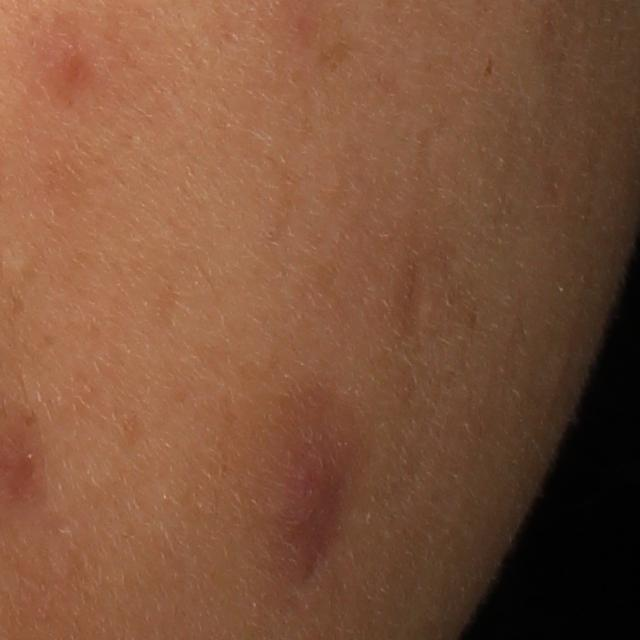nodule: (282, 436, 342, 580)
